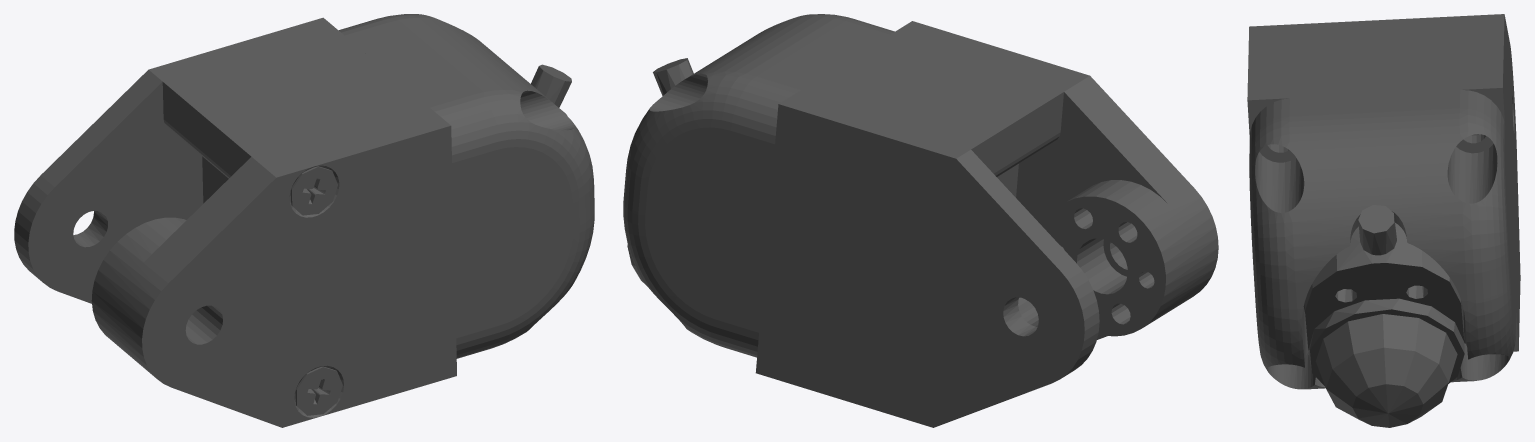
File: thumb3.dae
3 renders of one model, left to right at view 1: azimuth 30°, elevation 25°; view 2: azimuth 150°, elevation 25°; view 3: azimuth 270°, elevation 25°, orthographic. The views are drawn at different scales.
Parts seen in each view (by area): view 1: node; view 2: node; view 3: node.
Boxes of the visible parts, <box> form: node: <box>14,14,594,427</box>; node: <box>623,14,1218,427</box>; node: <box>1247,14,1520,427</box>.
Size of the model in its own units: 0.0403 by 0.0218 by 0.0192.
1 material, 1 textured.
